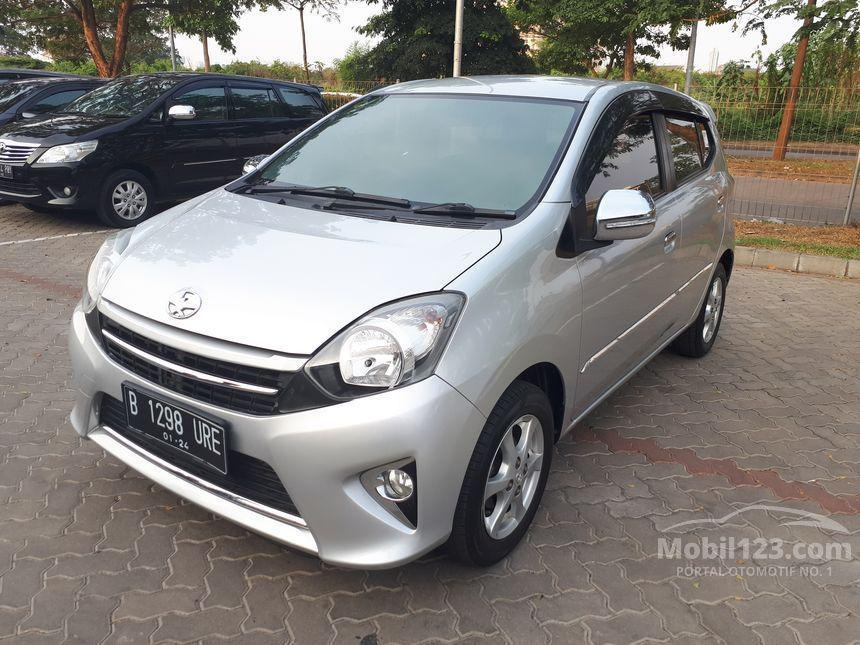plate: (121, 381, 225, 478)
